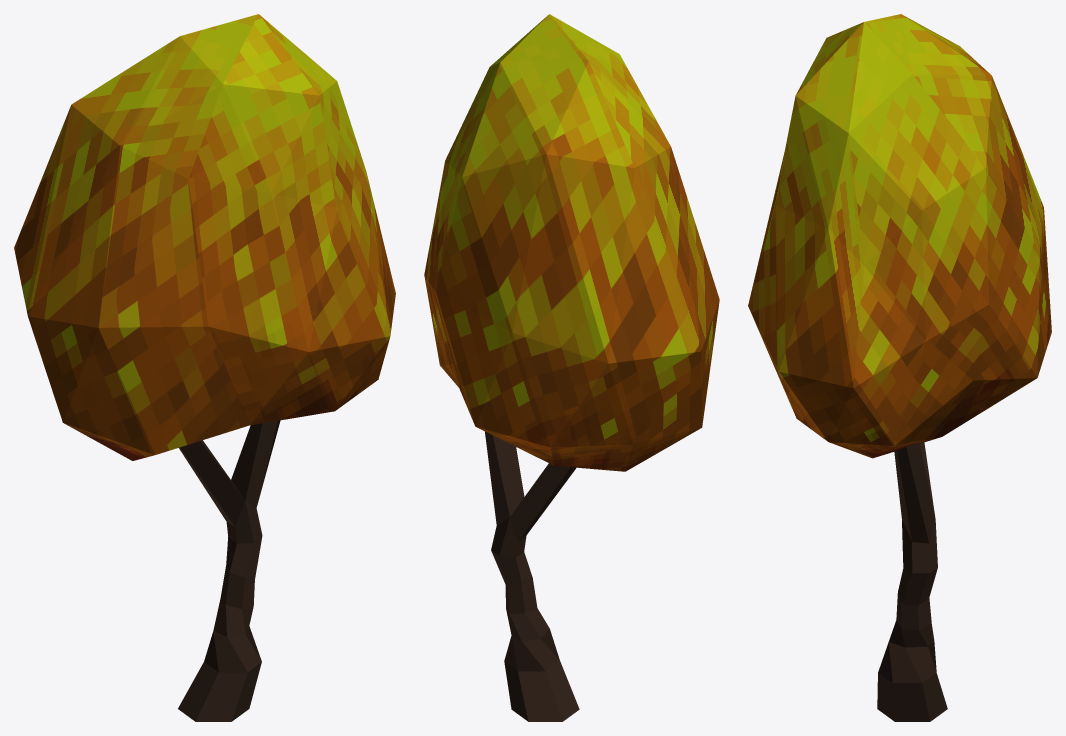
The model's file is tree2yell.glb.
The picture shows the model from 3 angles, left to right: view 1: azimuth 30°, elevation 25°; view 2: azimuth 150°, elevation 25°; view 3: azimuth 270°, elevation 25°; orthographic projection. The views are drawn at different scales.
Parts seen in each view (by area): view 1: Icosphere, Cylinder; view 2: Icosphere, Cylinder; view 3: Icosphere, Cylinder.
Part boxes in pixels (bbox=[...]): Icosphere: bbox=[14, 14, 395, 460]; Cylinder: bbox=[178, 420, 280, 721]; Icosphere: bbox=[424, 14, 719, 471]; Cylinder: bbox=[485, 431, 579, 721]; Icosphere: bbox=[748, 14, 1051, 458]; Cylinder: bbox=[877, 442, 947, 721].
Bounding box in the file's own units: 10.54 × 21.81 × 8.62.
2 materials, 1 textured.
